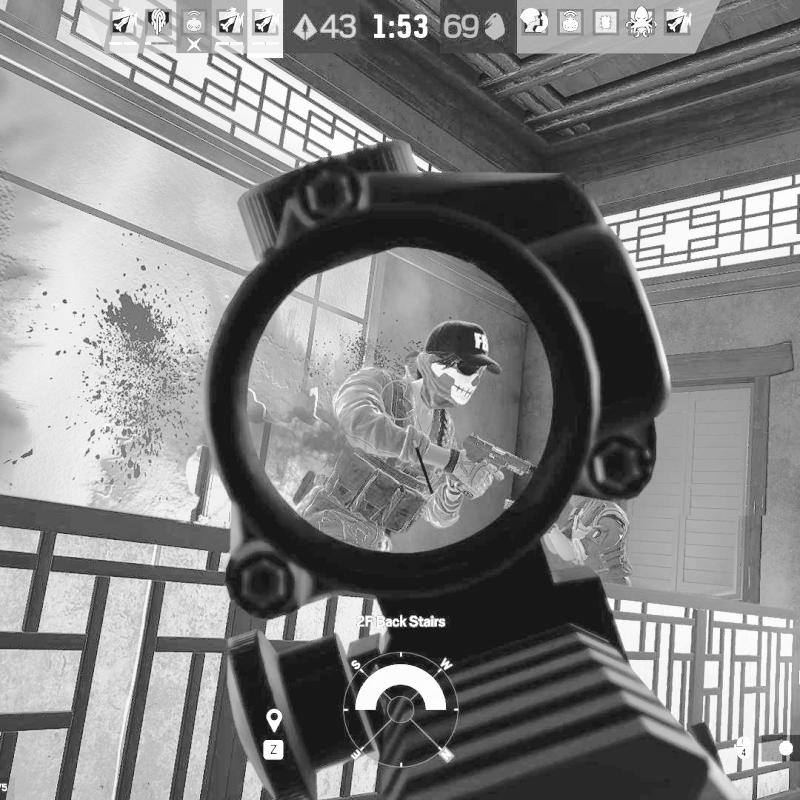Character: (290, 315, 532, 553), (548, 487, 634, 588)
Head: (420, 319, 498, 410), (567, 497, 595, 513)
